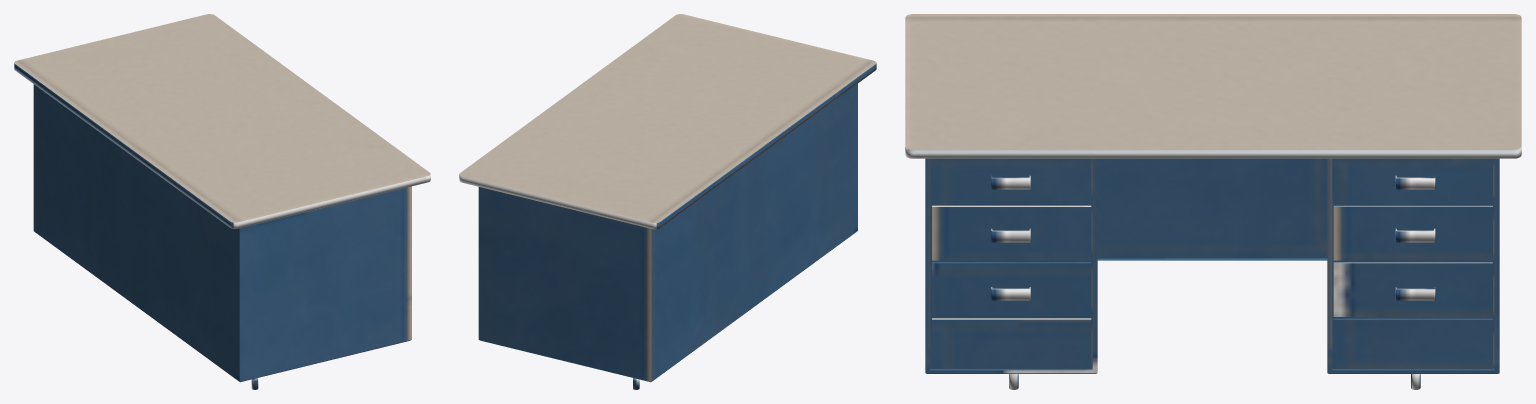
The model's file is Table.fbx.
3 views of the same model, side by side, from view 1: azimuth 30°, elevation 25°; view 2: azimuth 150°, elevation 25°; view 3: azimuth 270°, elevation 25° (orthographic). The views are drawn at different scales.
Visible parts, largest first — view 1: Table; view 2: Table; view 3: Table.
Part boxes in pixels (x1=…): Table: x1=14, y1=14, x2=430, y2=389; Table: x1=459, y1=14, x2=876, y2=389; Table: x1=905, y1=14, x2=1521, y2=389.
Size of the model in its own units: 2 by 1.72 by 3.83.
